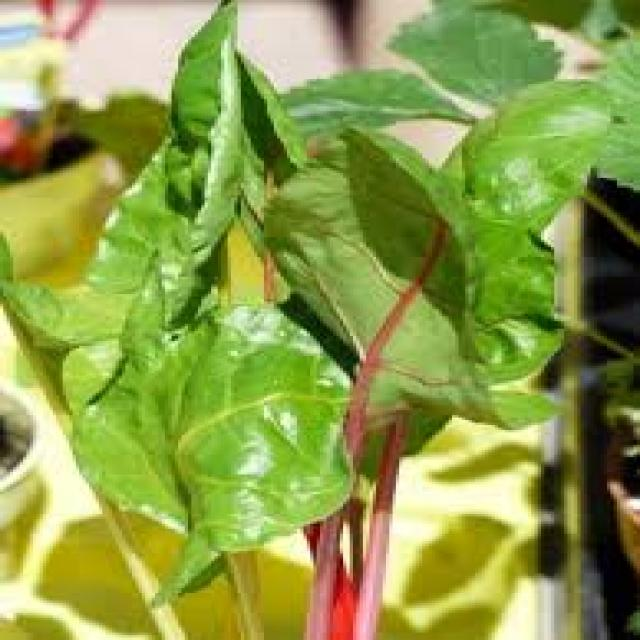organic waste: (340, 76, 584, 428), (0, 232, 267, 546), (142, 299, 406, 605), (251, 136, 458, 477), (23, 274, 211, 638), (76, 5, 234, 415), (277, 185, 419, 638), (386, 10, 564, 111), (201, 420, 267, 638), (274, 70, 475, 134), (584, 47, 637, 188), (574, 0, 637, 42)
